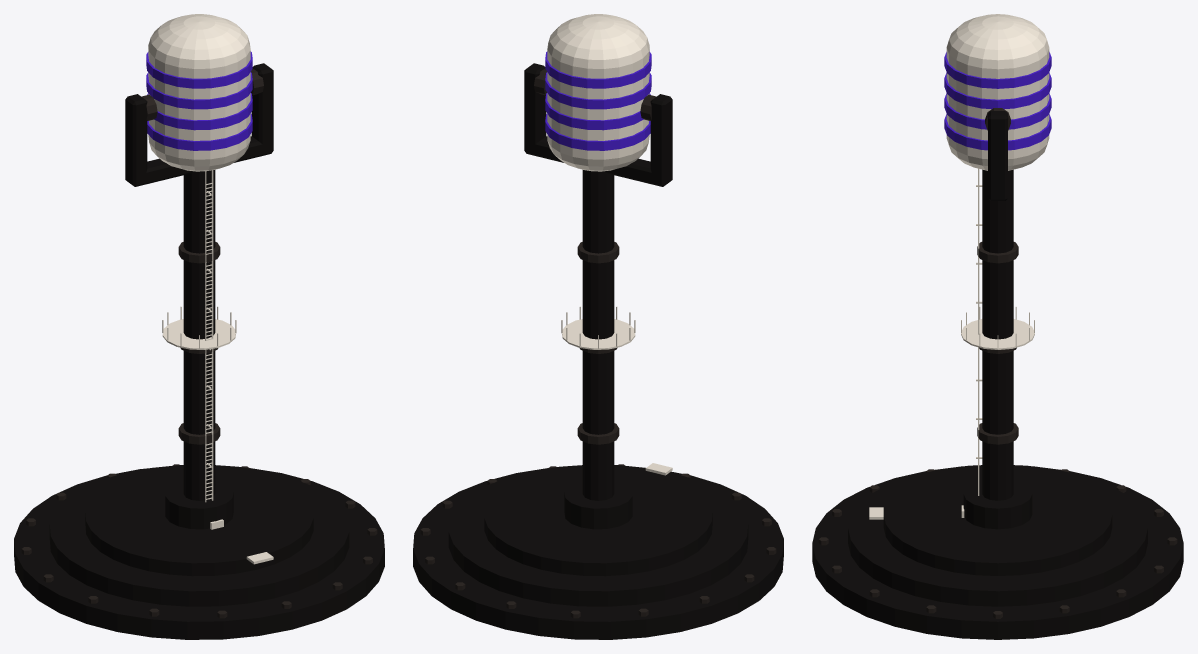
File: microphone_tower.glb
3 views of the same model, side by side, from view 1: azimuth 30°, elevation 25°; view 2: azimuth 150°, elevation 25°; view 3: azimuth 270°, elevation 25° (orthographic).
Parts seen in each view (by area): view 1: microphone_tower; view 2: microphone_tower; view 3: microphone_tower.
Boxes of the visible parts, box(x1,y1,x2,y2) form: microphone_tower: box(14, 14, 384, 639); microphone_tower: box(413, 14, 783, 639); microphone_tower: box(812, 14, 1183, 639).
Size of the model in its own units: 26 by 41.68 by 26.
